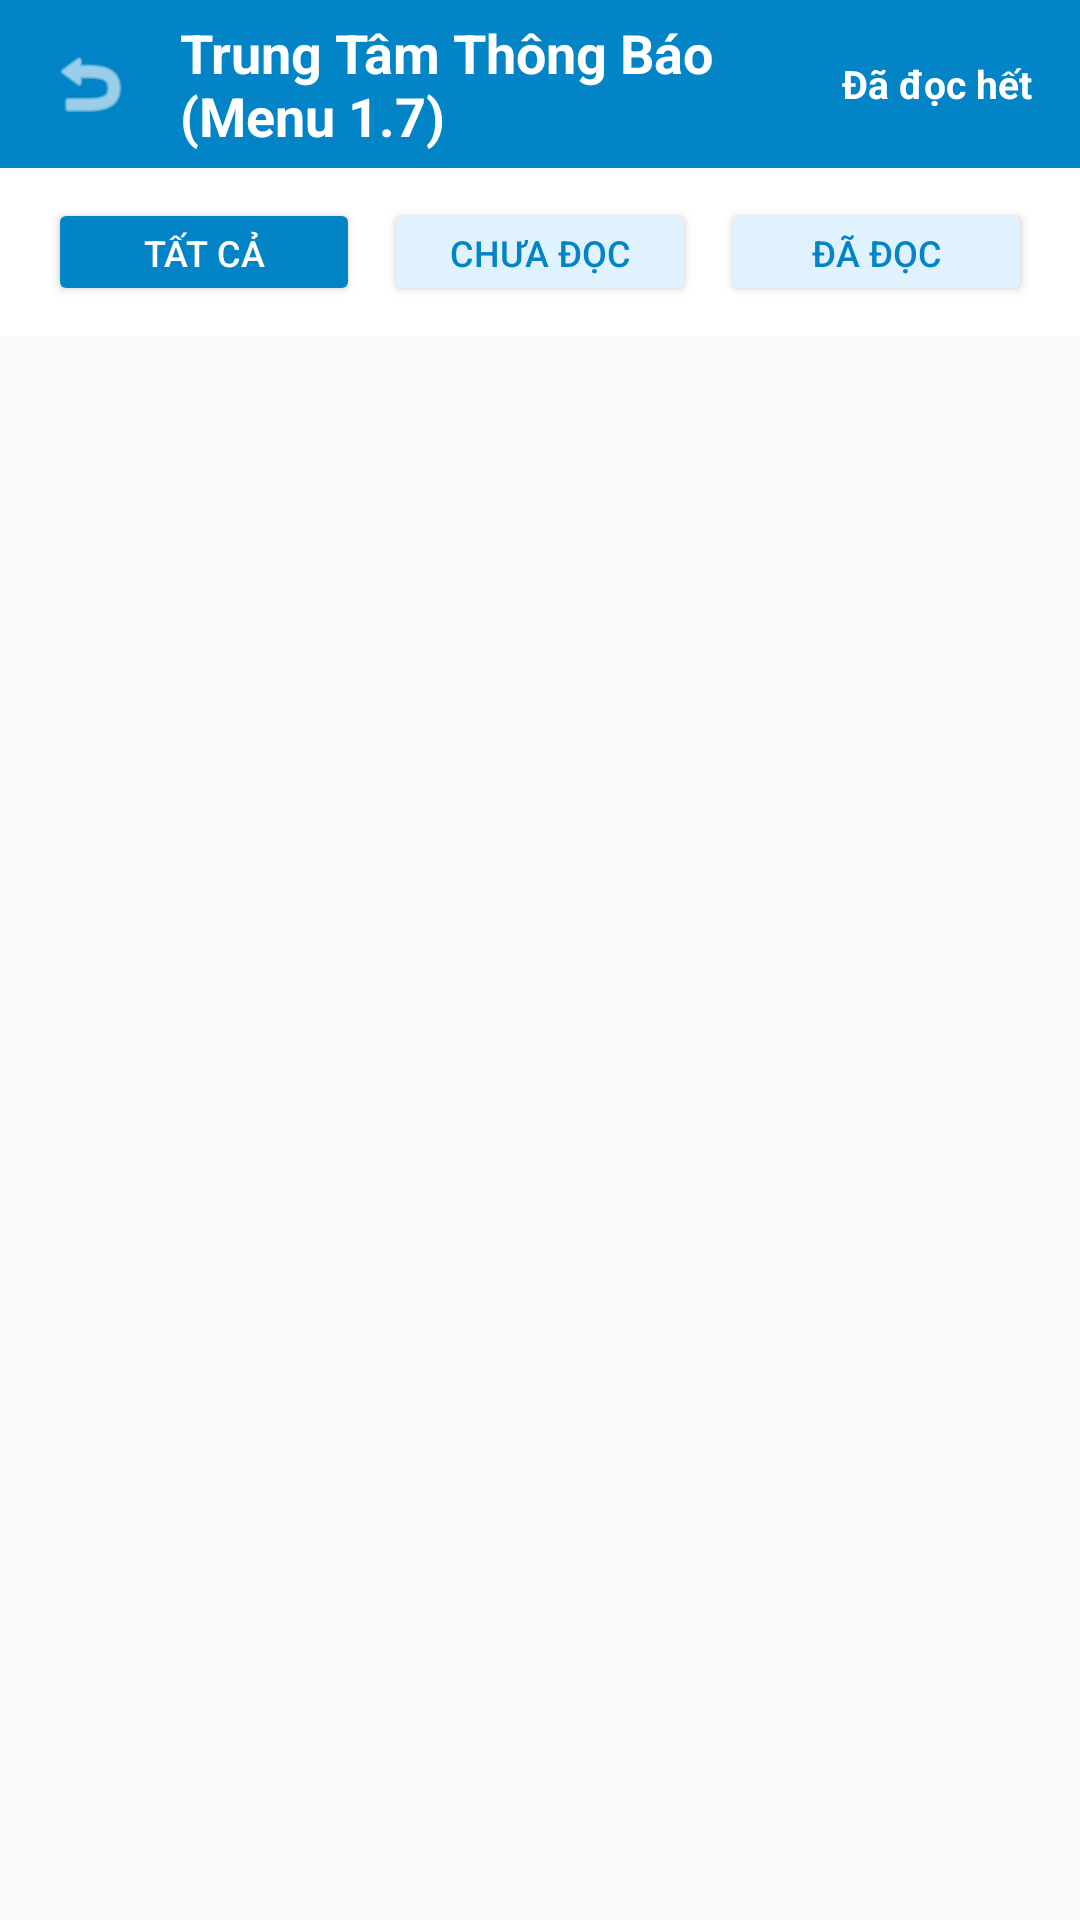

Locate icon controls on the screen. Image size 1080 x 1920, boxes as [x1,y1,x2,y2].
Quay lại: [61,57,122,112]
